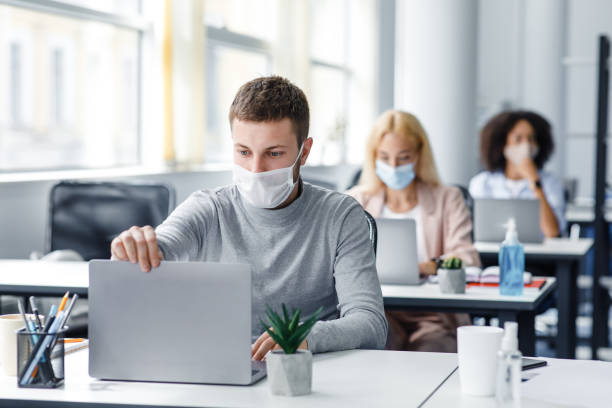with mask: (225, 107, 305, 211), (494, 113, 548, 176), (367, 127, 421, 190)
